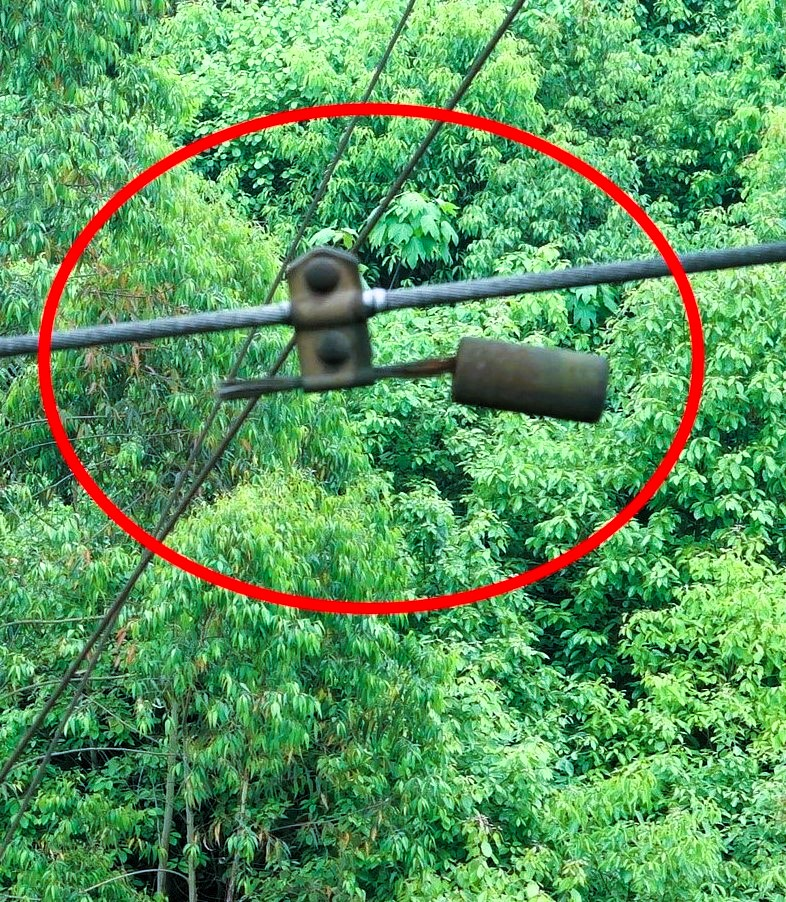Damage of shockproof hammer: (190, 235, 624, 450)
